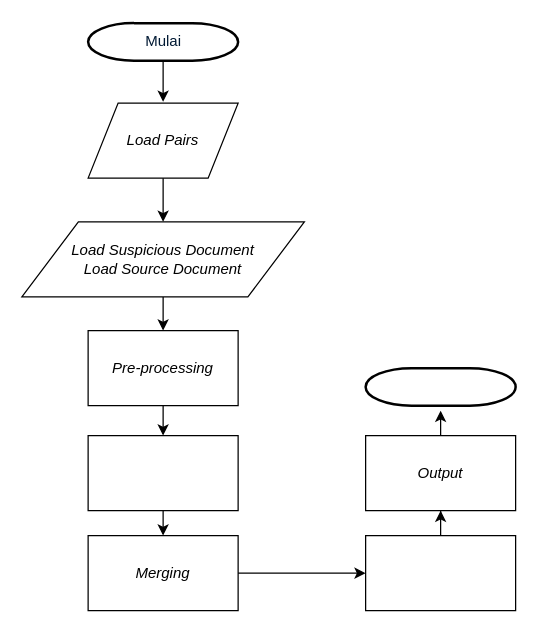
Image size: 539x633. Some labels were removed from this diagram. The centre of each missing label's shape, as x and y in pixels:
"Filtering" goes at (440,572).
"Seed Generation" goes at (162,472).
"Selesai" goes at (440,386).
